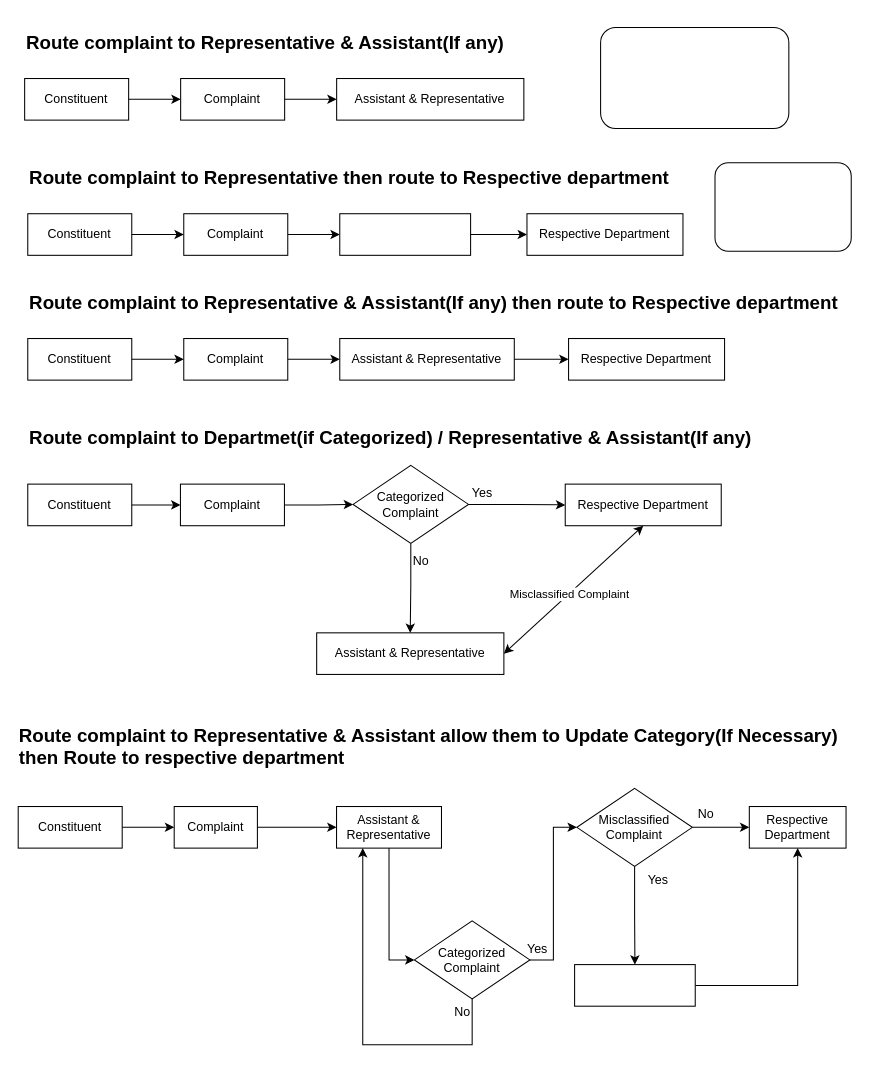
Image size: 870x1071. Some labels were removed from this diagram. The shapes that lost their labels are listed below. From the top down, each one's centre as x and y in pixels, then its label:
At pixel 694 77: "Exclude Department Module".
At pixel 782 206: "Exclude Assistant Module".
At pixel 405 234: "Representative".
At pixel 634 985: "Correct Category".
